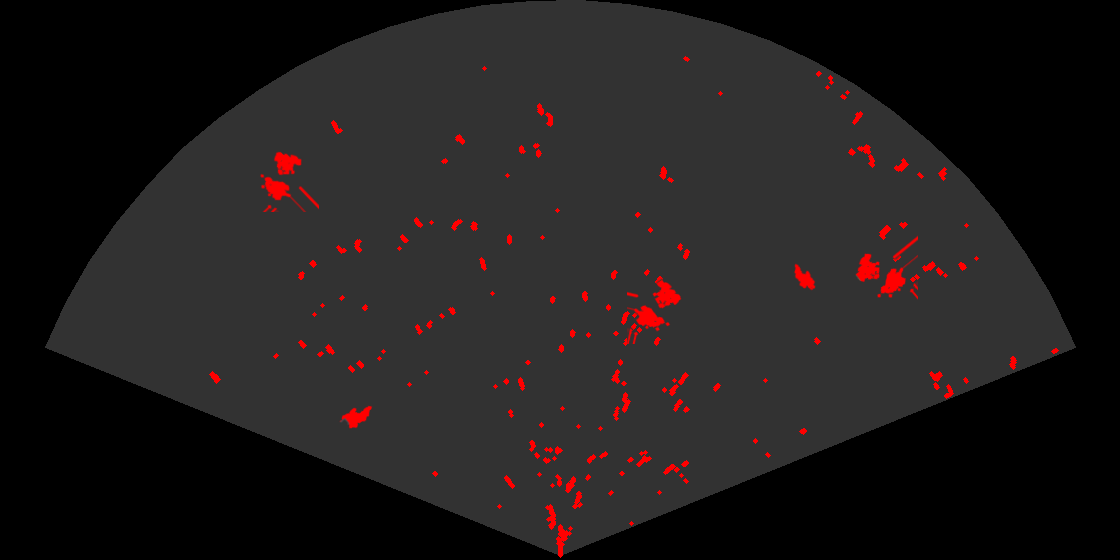AUV: (338, 404, 374, 430), (792, 262, 817, 292)
cage: (854, 235, 918, 301), (259, 150, 319, 212), (627, 278, 683, 344)
